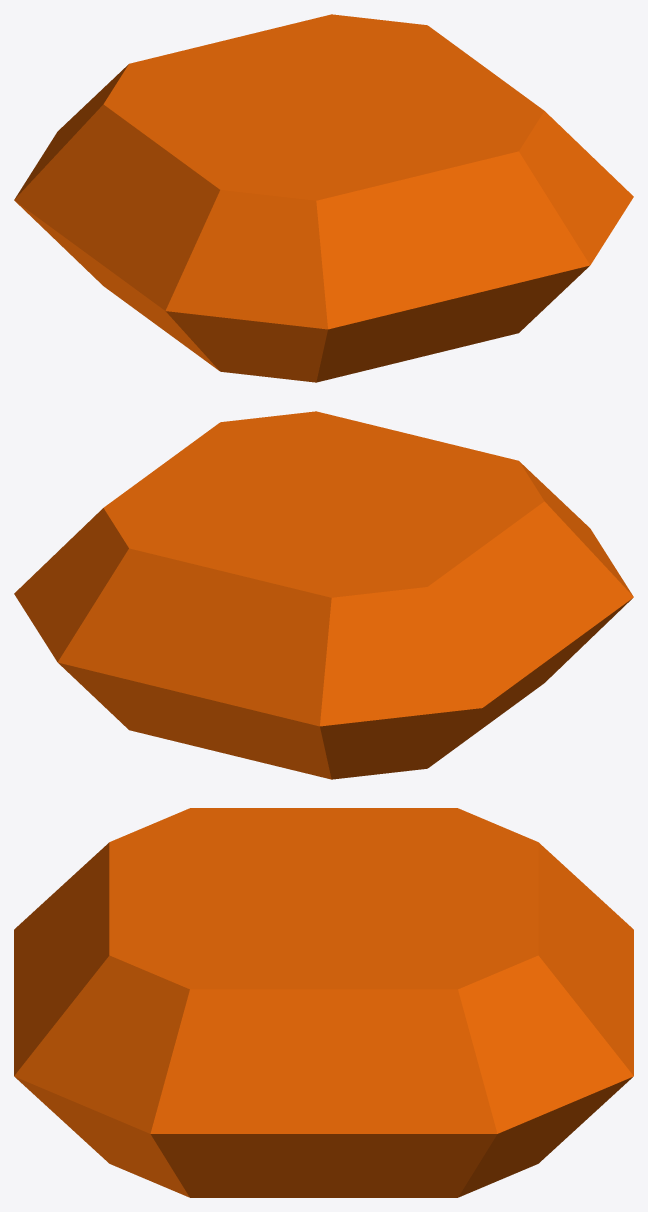
File: Gem2.fbx
3 renders of one model, top to bottom at view 1: azimuth 30°, elevation 25°; view 2: azimuth 150°, elevation 25°; view 3: azimuth 270°, elevation 25°, orthographic. The views are drawn at different scales.
Parts seen in each view (by area): view 1: Plane; view 2: Plane; view 3: Plane.
Part boxes in pixels (left/top/right/bottom): Plane: left=14, top=14, right=633, bottom=382; Plane: left=14, top=411, right=633, bottom=779; Plane: left=14, top=808, right=633, bottom=1197.
Size of the model in its own units: 200 by 74.17 by 200.
